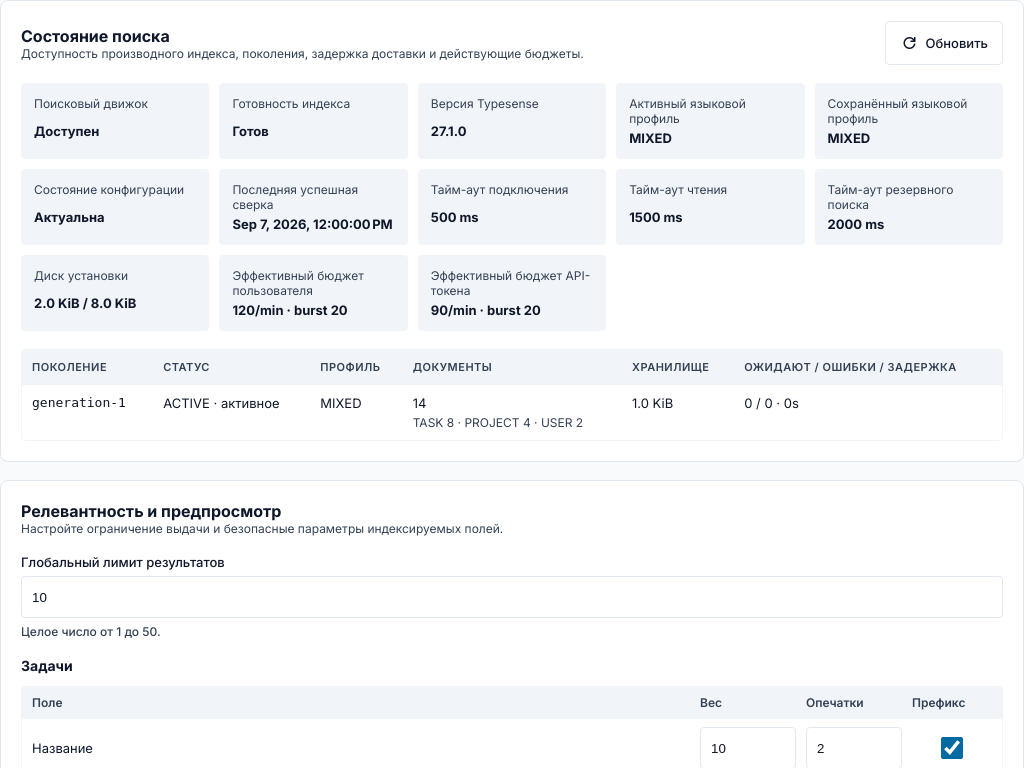
Test: SearchSettingsComponent › preserves the edited draft when save fails
The width and height of the screenshot is (1024, 768).
Replace the text in the number field with id "search-global-limit" with "17" at (512, 597), box [21, 576, 1003, 618]
(page scrolled)
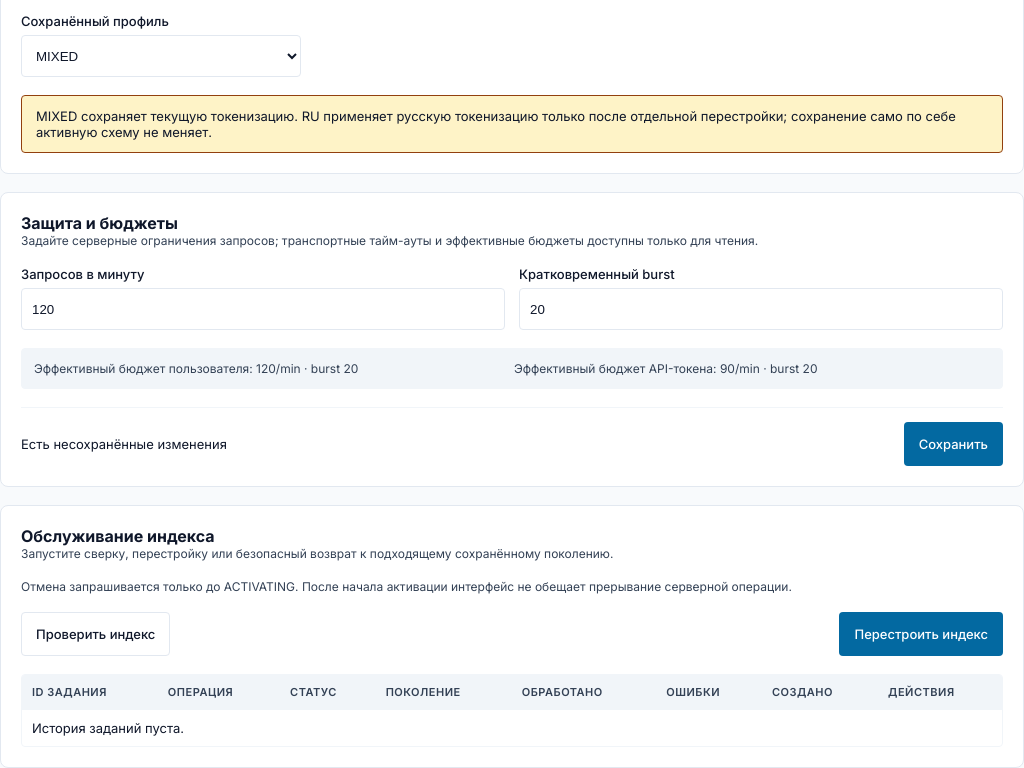
Click the button "Сохранить" at (953, 444), box [904, 422, 1003, 466]
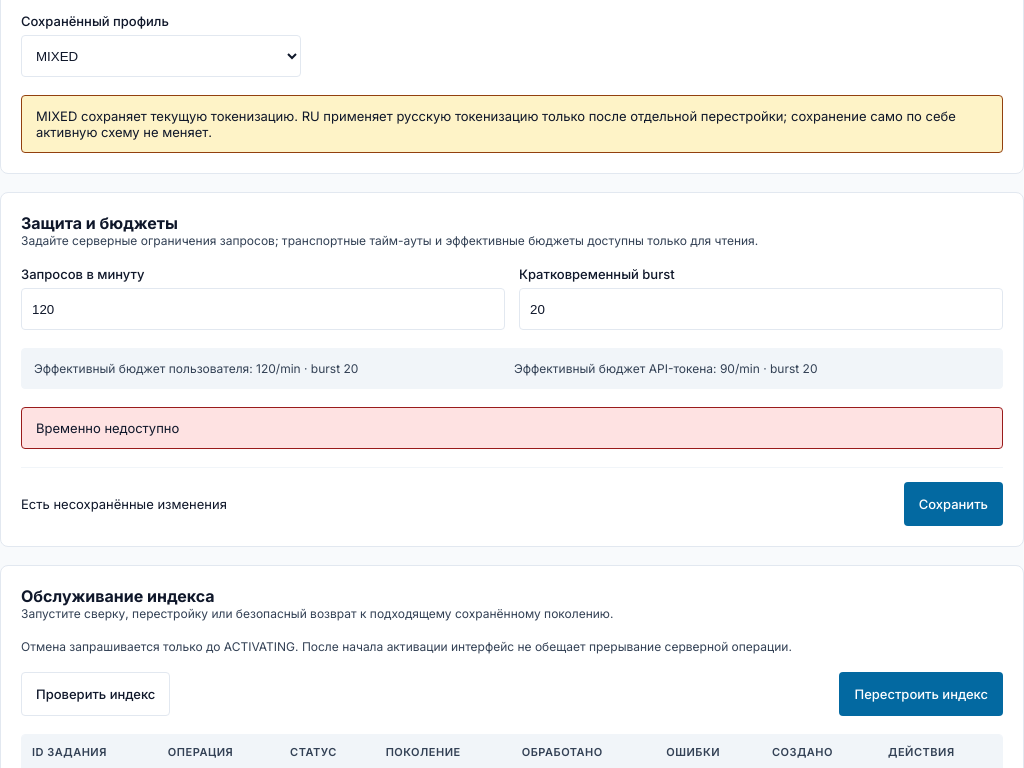
Now the text "Временно недоступно" is shown, box [36, 420, 179, 436]
